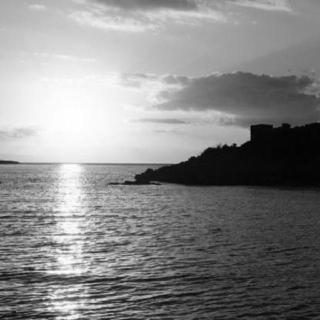other: (36, 93, 102, 147), (55, 159, 91, 239)
